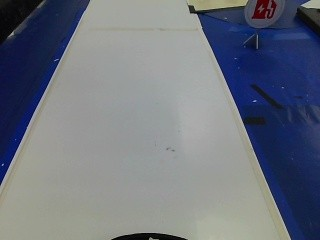battery: (244, 0, 283, 29)
